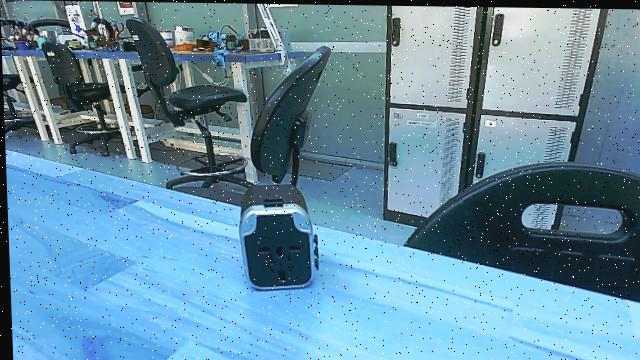adapter: (230, 175, 323, 296)
